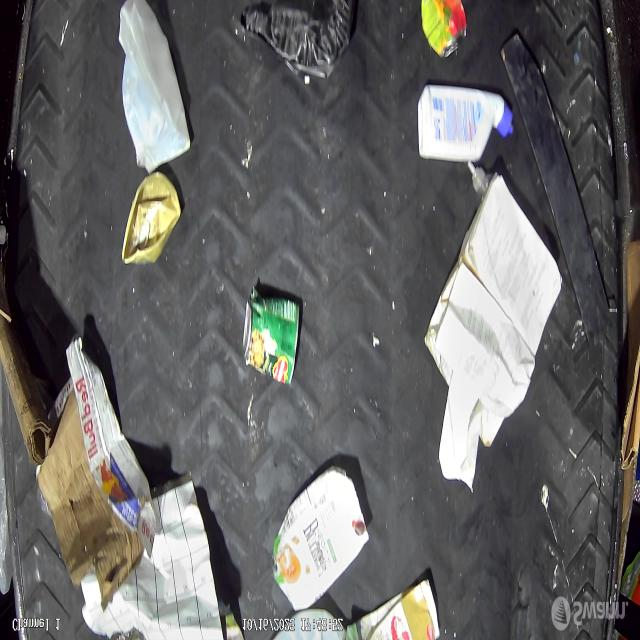can: (247, 291, 300, 382)
milk_jug: (120, 4, 190, 175)
